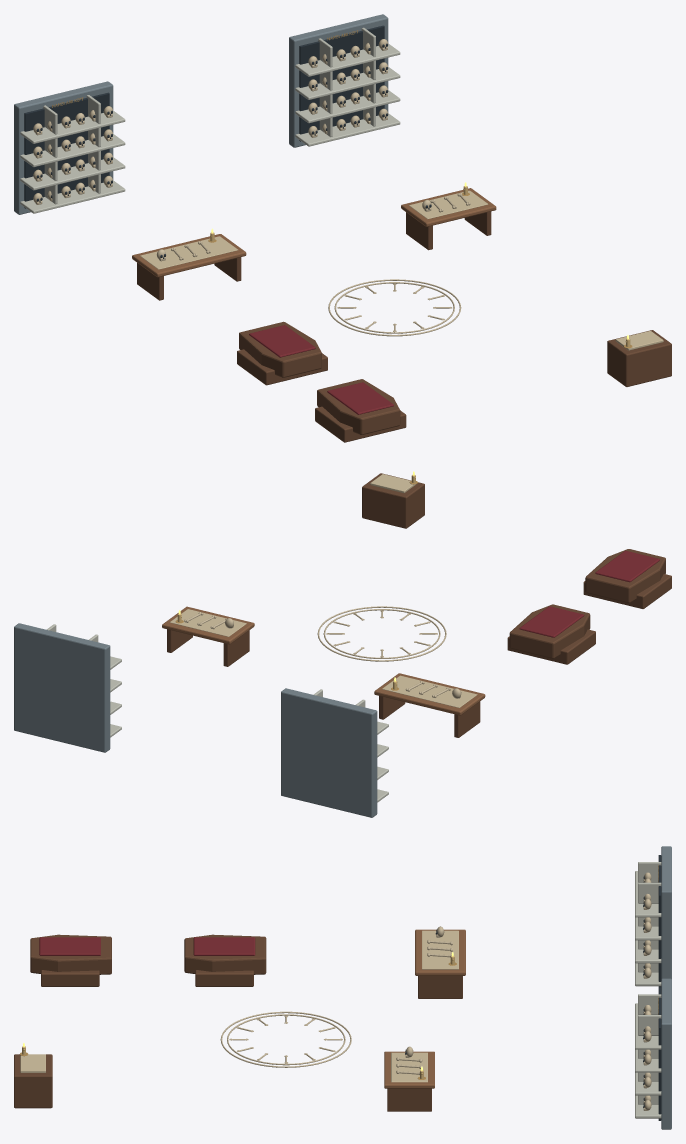
The model's file is ossuary.glb.
3 renders of one model, top to bottom at view 1: azimuth 30°, elevation 25°; view 2: azimuth 150°, elevation 25°; view 3: azimuth 270°, elevation 25°, orthographic. The views are drawn at different scales.
Parts seen in each view (by area): view 1: Crafted assembly 011, Crafted assembly 002, Crafted assembly 007, Crafted assembly 003, Crafted assembly 016, Crafted assembly 006, Crafted assembly 001, Crafted assembly 020, Crafted assembly 000, Crafted assembly 005, Crafted assembly 008, Crafted assembly 017 (+3 smaller); view 2: Crafted assembly 005, Crafted assembly 000, Crafted assembly 011, Crafted assembly 016, Crafted assembly 020, Crafted assembly 003, Crafted assembly 017, Crafted assembly 012, Crafted assembly 010, Crafted assembly 015, Crafted assembly 007, Crafted assembly 002; view 3: Crafted assembly 011, Crafted assembly 016, Crafted assembly 002, Crafted assembly 007, Crafted assembly 020, Crafted assembly 003, Crafted assembly 005, Crafted assembly 000, Crafted assembly 017, Crafted assembly 012, Crafted assembly 008, Crafted assembly 010 (+3 smaller).
Boxes of the visible parts, <box> form: Crafted assembly 011: <box>137,257,406,442</box>; Crafted assembly 002: <box>20,95,125,213</box>; Crafted assembly 007: <box>295,27,400,146</box>; Crafted assembly 003: <box>33,106,461,336</box>; Crafted assembly 016: <box>406,211,671,386</box>; Crafted assembly 006: <box>299,25,431,209</box>; Crafted assembly 001: <box>24,92,165,258</box>; Crafted assembly 020: <box>249,325,393,414</box>; Crafted assembly 000: <box>14,81,113,214</box>; Crafted assembly 005: <box>289,14,388,147</box>; Crafted assembly 008: <box>308,39,470,320</box>; Crafted assembly 017: <box>409,190,663,350</box>; Crafted assembly 005: <box>14,623,110,752</box>; Crafted assembly 000: <box>281,688,377,817</box>; Crafted assembly 011: <box>379,549,671,737</box>; Crafted assembly 016: <box>167,473,424,666</box>; Crafted assembly 020: <box>519,550,659,637</box>; Crafted assembly 003: <box>317,606,461,698</box>; Crafted assembly 017: <box>170,474,416,636</box>; Crafted assembly 012: <box>382,675,477,707</box>; Crafted assembly 010: <box>374,673,485,715</box>; Crafted assembly 015: <box>162,606,254,644</box>; Crafted assembly 007: <box>46,624,121,737</box>; Crafted assembly 002: <box>313,689,388,802</box>; Crafted assembly 011: <box>30,934,462,998</box>; Crafted assembly 016: <box>14,1054,431,1111</box>; Crafted assembly 002: <box>635,862,661,986</box>; Crafted assembly 007: <box>635,994,661,1118</box>; Crafted assembly 020: <box>39,937,255,955</box>; Crafted assembly 003: <box>220,872,651,1067</box>; Crafted assembly 005: <box>661,978,671,1129</box>; Crafted assembly 000: <box>661,846,671,979</box>; Crafted assembly 017: <box>20,1052,427,1082</box>; Crafted assembly 012: <box>422,930,458,969</box>; Crafted assembly 008: <box>237,1005,651,1110</box>; Crafted assembly 010: <box>415,929,465,975</box>.
Size of what is drawn, in the model's own units: 13.65 by 3.8 by 21.33.
